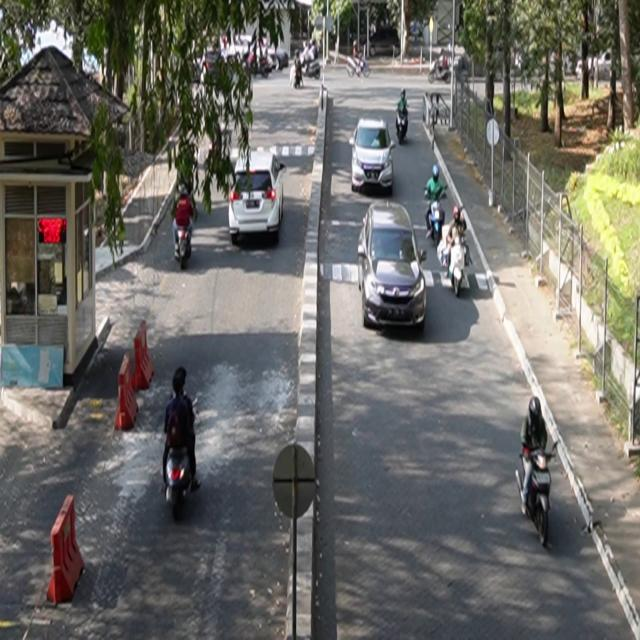car: (358, 201, 428, 332), (229, 149, 287, 246), (350, 118, 396, 196)
